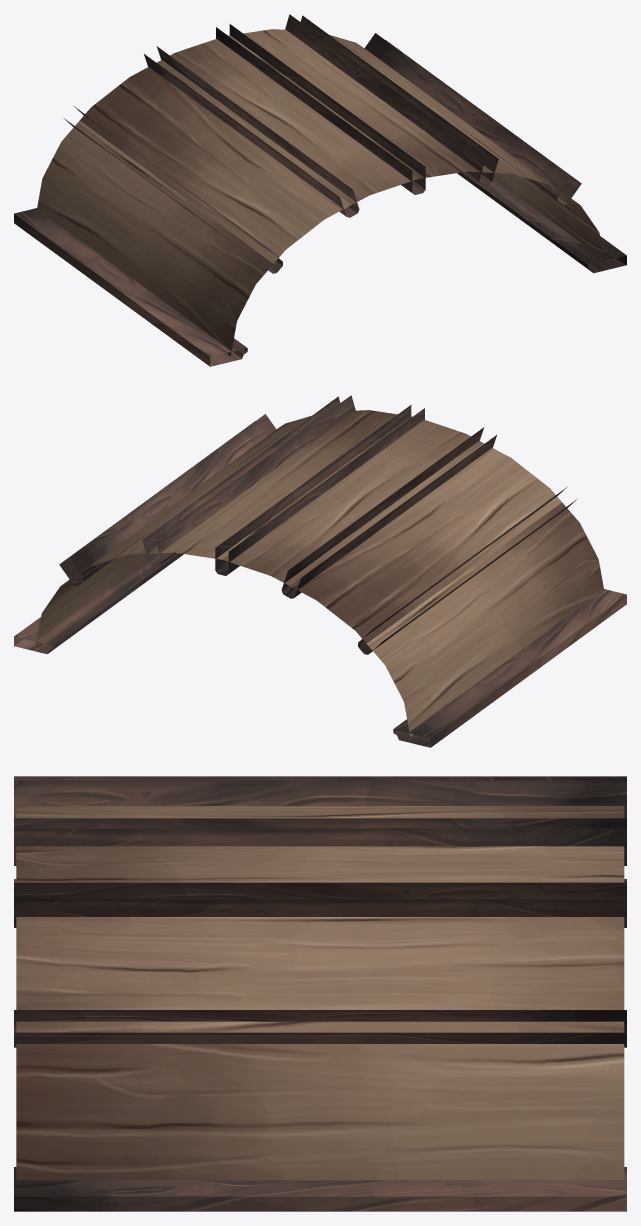
The model's file is Roof_ArchSmall..fbx.
3 views of the same model, one above another, from view 1: azimuth 30°, elevation 25°; view 2: azimuth 150°, elevation 25°; view 3: azimuth 270°, elevation 25° (orthographic). The views are drawn at different scales.
Visible parts, largest first — view 1: Roof_Arch_Small; view 2: Roof_Arch_Small; view 3: Roof_Arch_Small.
Part boxes in pixels (<box>): Roof_Arch_Small: <box>14,14,626,366</box>; Roof_Arch_Small: <box>14,395,626,747</box>; Roof_Arch_Small: <box>14,776,626,1211</box>.
Size of the model in its own units: 0.5907 by 0.1993 by 0.482.
